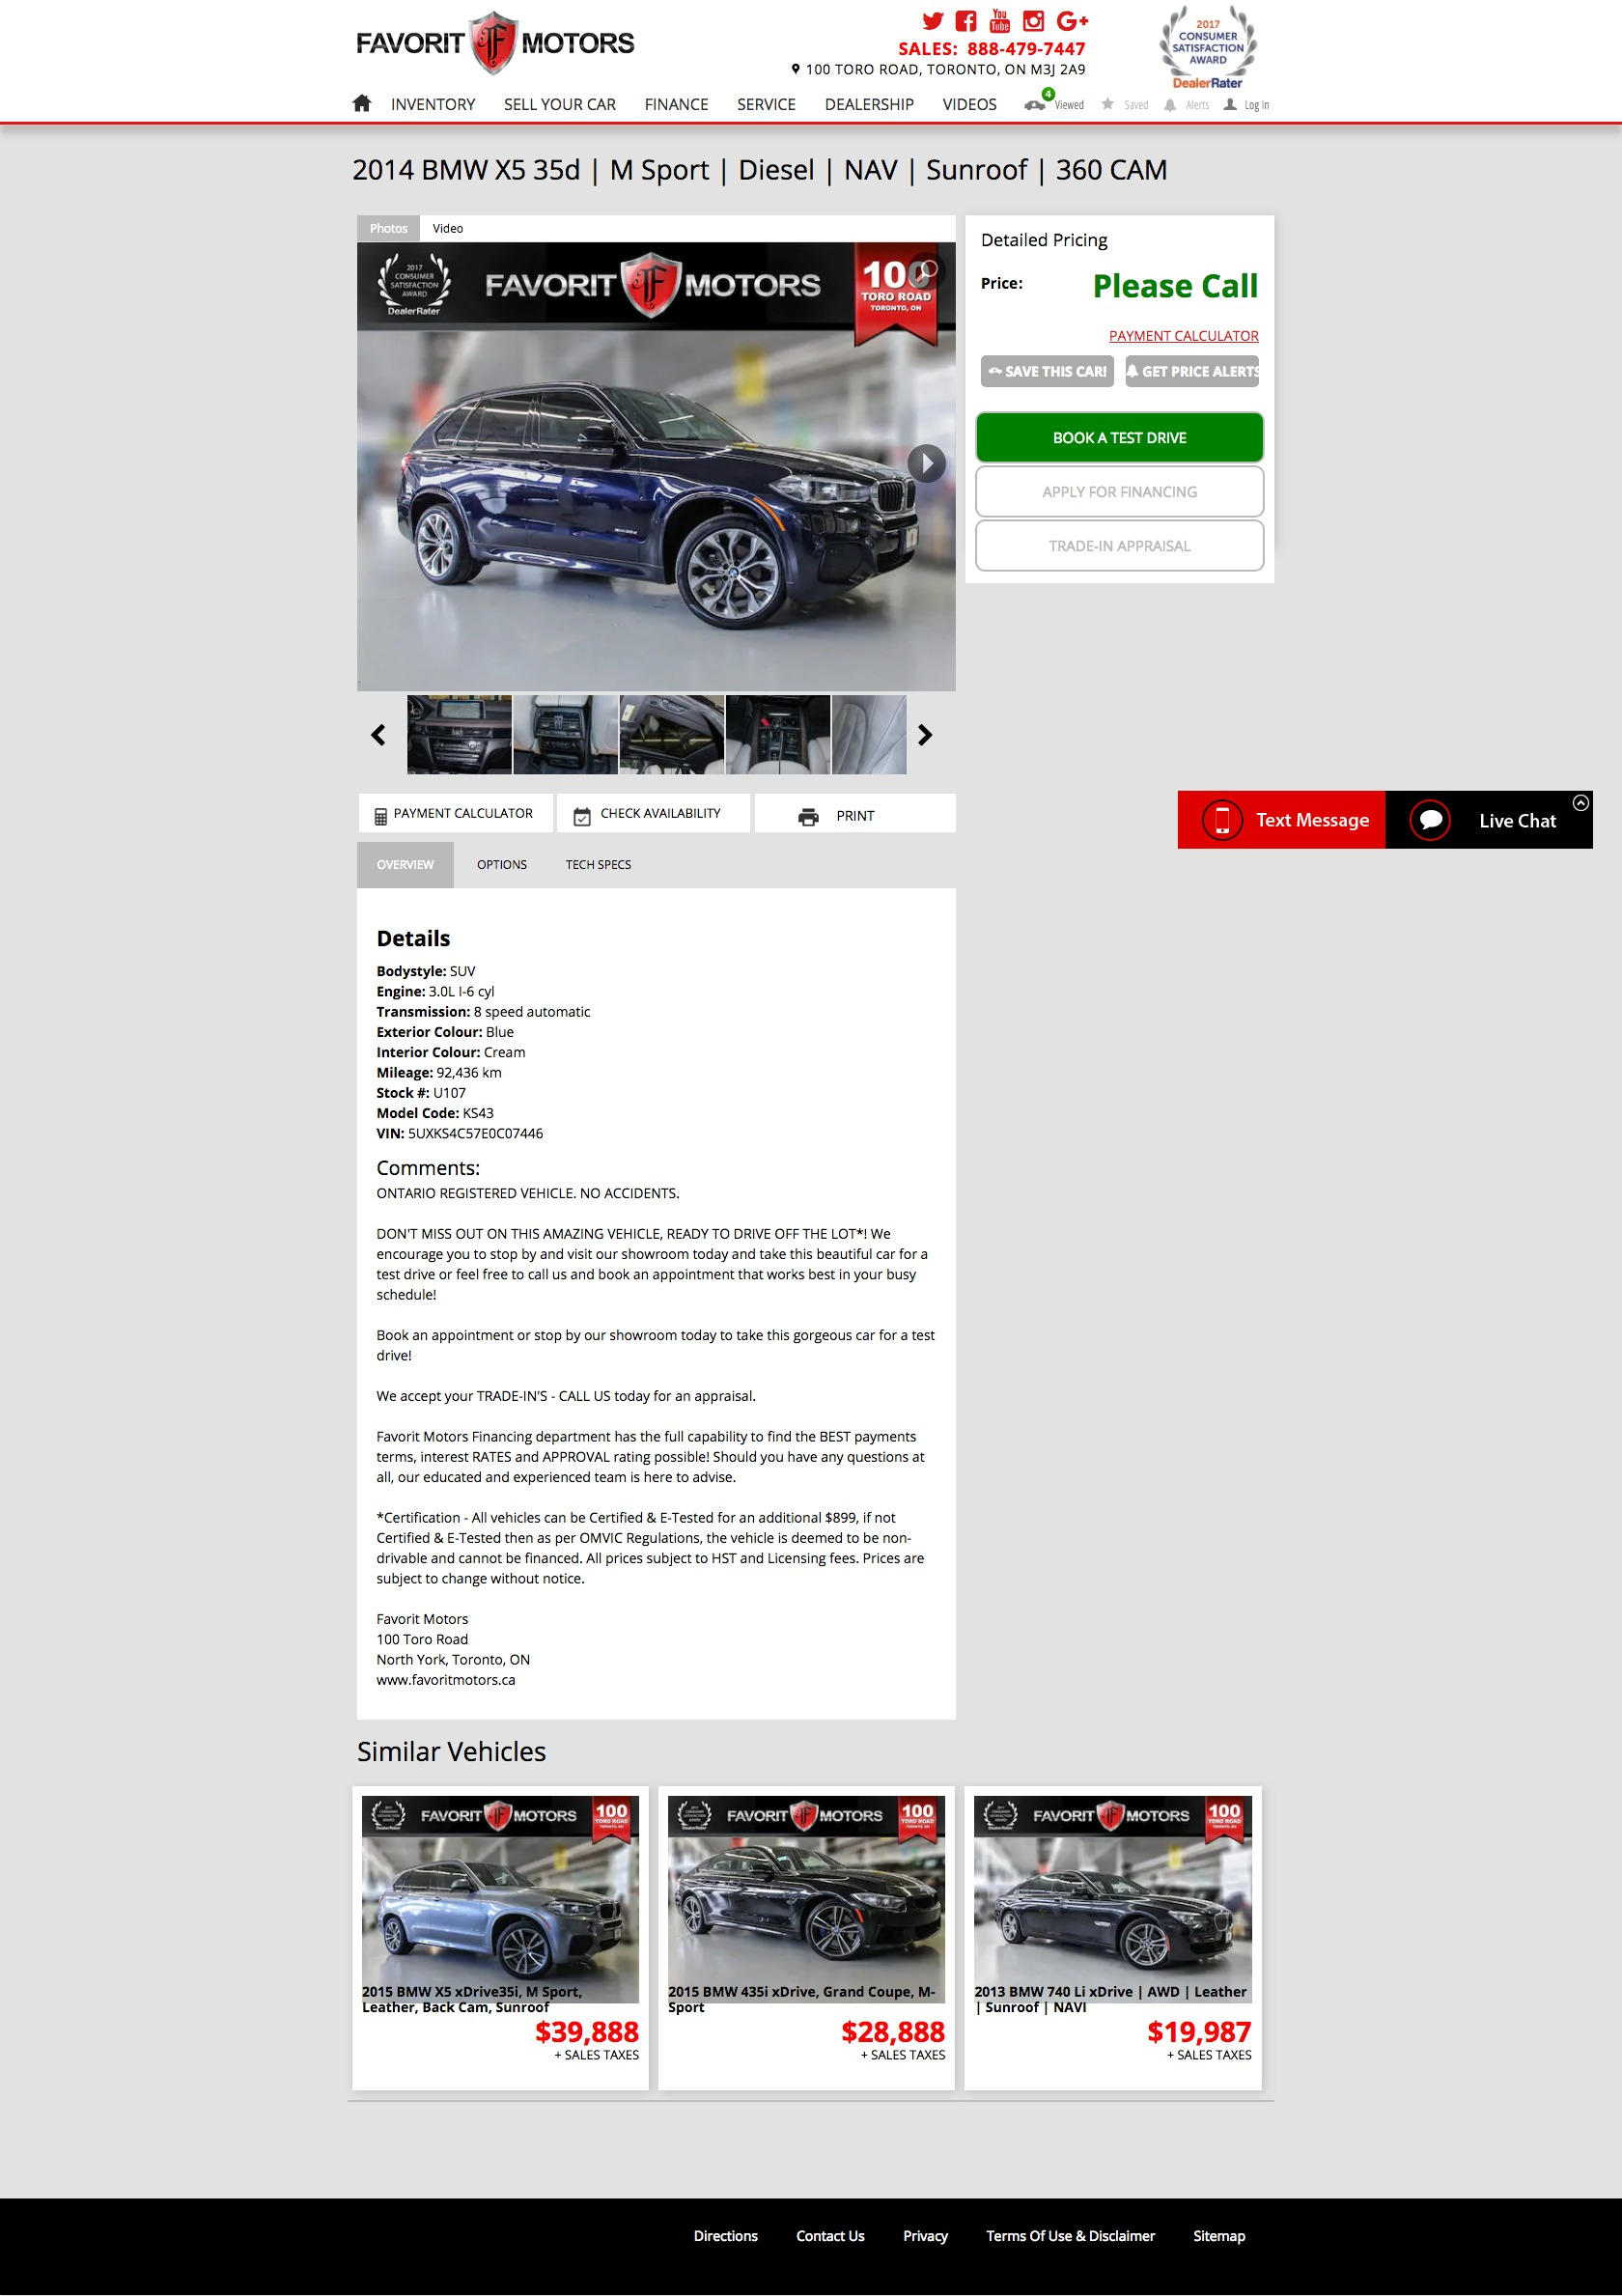car: (920, 725, 934, 748)
